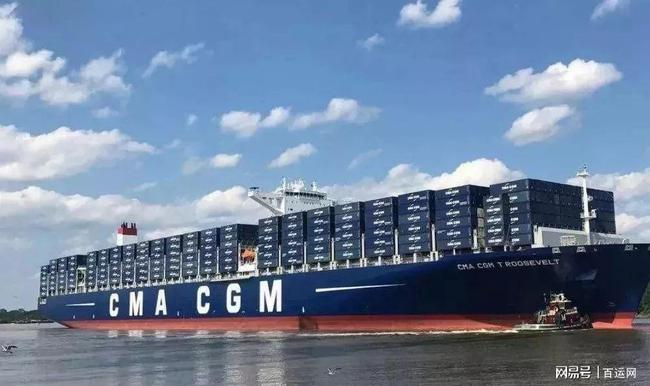Cargoship: (31, 164, 644, 338)
otherboat: (505, 286, 602, 333)
